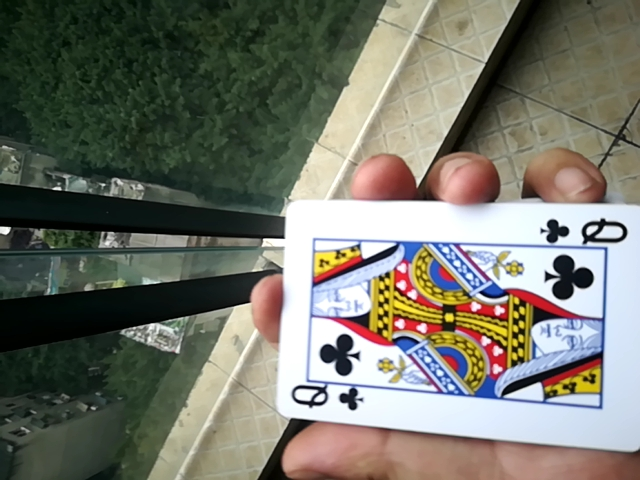mh q: (263, 196, 636, 448)
